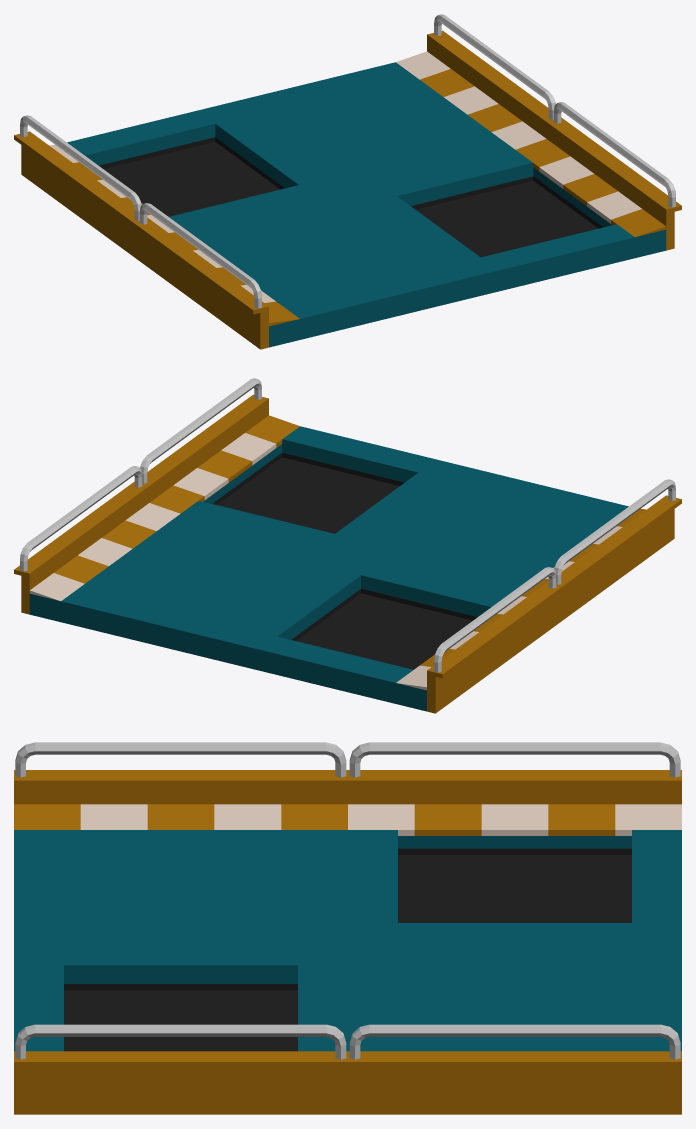
The model's file is trapSpring.FBX.
3 renders of one model, top to bottom at view 1: azimuth 30°, elevation 25°; view 2: azimuth 150°, elevation 25°; view 3: azimuth 270°, elevation 25°, orthographic. The views are drawn at different scales.
Parts seen in each view (by area): view 1: trapSpring, wall_r, wall_l, curbs_l, curbs_r; view 2: trapSpring, wall_r, wall_l, curbs_l, curbs_r; view 3: trapSpring, wall_l, wall_r, curbs_r.
Part boxes in pixels (<box>): trapSpring: <box>67,62,666,347</box>; wall_r: <box>14,115,268,349</box>; wall_l: <box>427,14,681,250</box>; curbs_l: <box>396,51,666,236</box>; curbs_r: <box>49,144,299,326</box>; trapSpring: <box>29,426,628,711</box>; wall_r: <box>427,479,681,713</box>; wall_l: <box>14,378,268,614</box>; curbs_l: <box>29,415,299,601</box>; curbs_r: <box>396,508,646,690</box>; trapSpring: <box>14,830,681,1051</box>; wall_l: <box>14,1024,681,1114</box>; wall_r: <box>14,742,681,804</box>; curbs_r: <box>14,804,681,835</box>.
Size of what is drawn, in the model's own units: 207 by 29.31 by 200.
